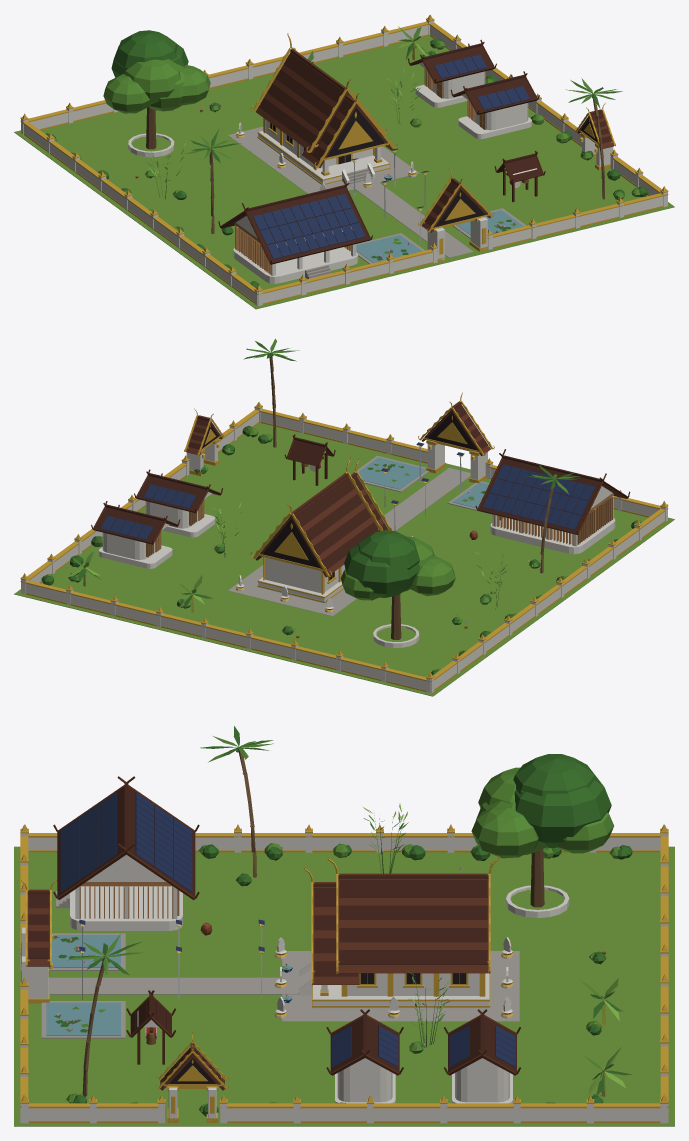
Rendered from temple_1.glb.
3 views of the same model, one above another, from view 1: azimuth 30°, elevation 25°; view 2: azimuth 150°, elevation 25°; view 3: azimuth 270°, elevation 25° (orthographic). The views are drawn at different scales.
Visible parts, largest first — view 1: body; view 2: body; view 3: body.
Boxes of the visible parts, bbox=[...] form: body: bbox=[14, 15, 674, 309]; body: bbox=[14, 338, 674, 696]; body: bbox=[14, 726, 674, 1126].
Bounding box in the file's own units: 47.9 × 12.05 × 47.9.
